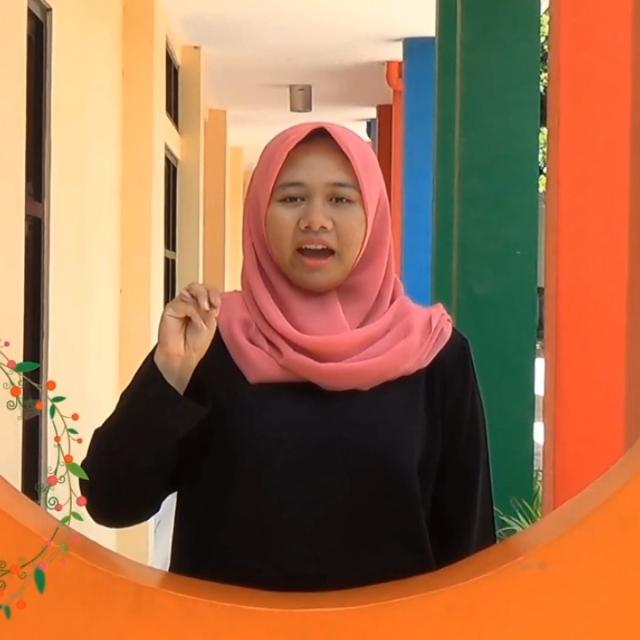M: (159, 282, 225, 358)
